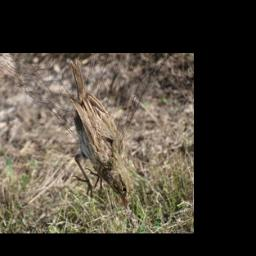Sparrow: (67, 55, 132, 211)
